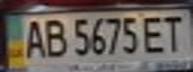5: (121, 14, 145, 56), (69, 15, 90, 58)
6: (90, 15, 109, 56)
7: (103, 15, 124, 56)
A: (18, 17, 48, 60)
B: (39, 16, 69, 58)
E: (139, 12, 172, 55)
T: (157, 11, 190, 53)
